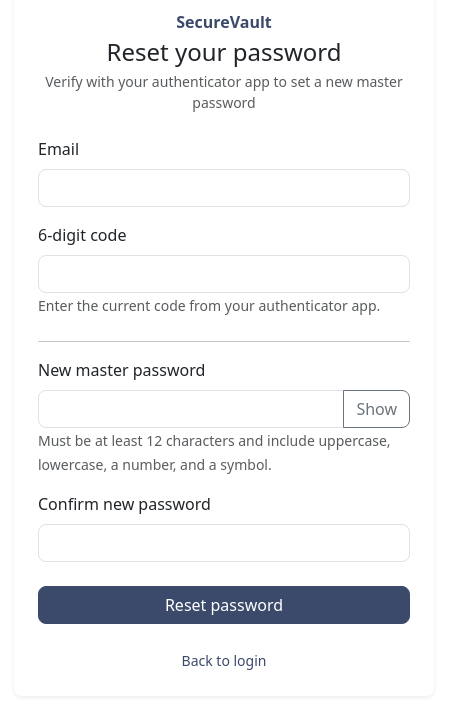
Test case: ForgotPassword screen (PRD 0020) › only accepts digits in the code field, capped at 6
This screenshot has width=449, height=715.
Step 1. Type "ab12cd34ef" into the field labelled "6-digit code" → coordinates (224, 274), box [38,255,410,293]
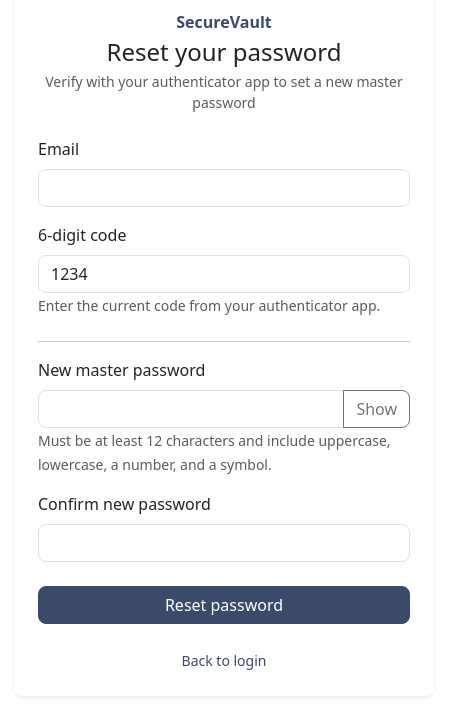
Check: the field labelled "6-digit code" holds "1234", box [38,255,410,293]
